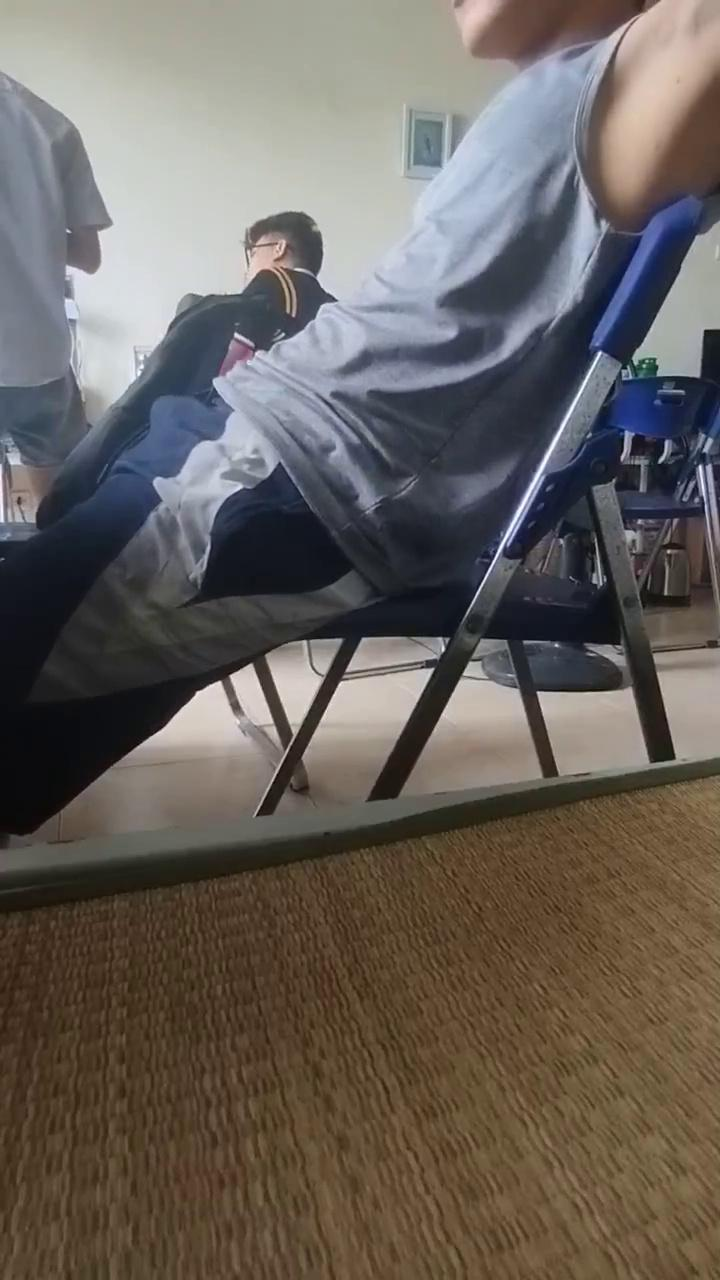BadPosture: (0, 0, 719, 842)
